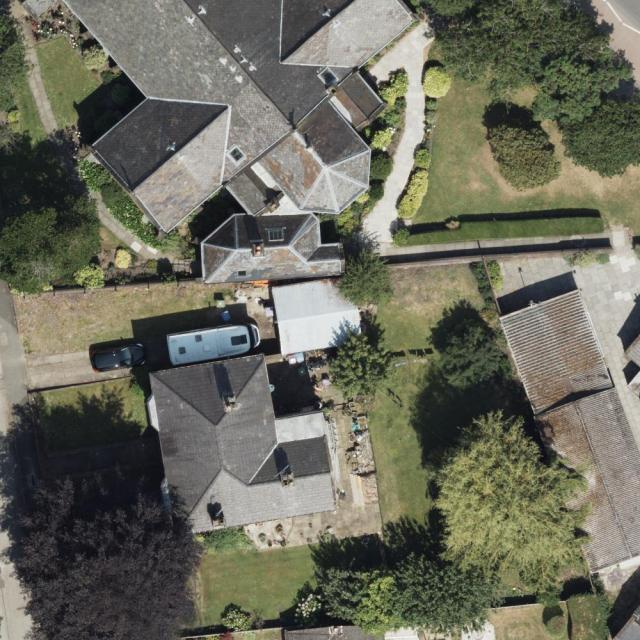roof: (61, 0, 420, 283), (502, 289, 640, 576), (143, 352, 339, 539)
skylight: (312, 68, 341, 93), (223, 141, 249, 168), (267, 228, 286, 240), (234, 268, 249, 279)
